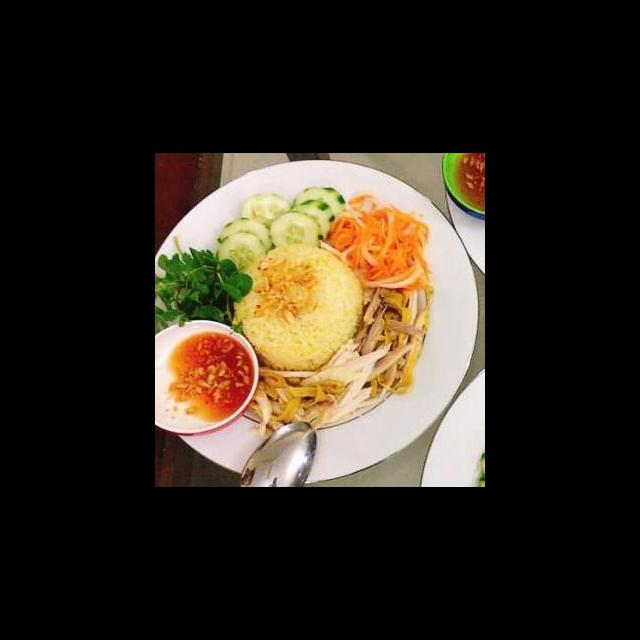com: (229, 241, 365, 375)
com ga: (160, 183, 444, 487)
rau ram: (156, 245, 255, 340)
thit ga: (245, 336, 395, 442), (350, 280, 437, 401)
